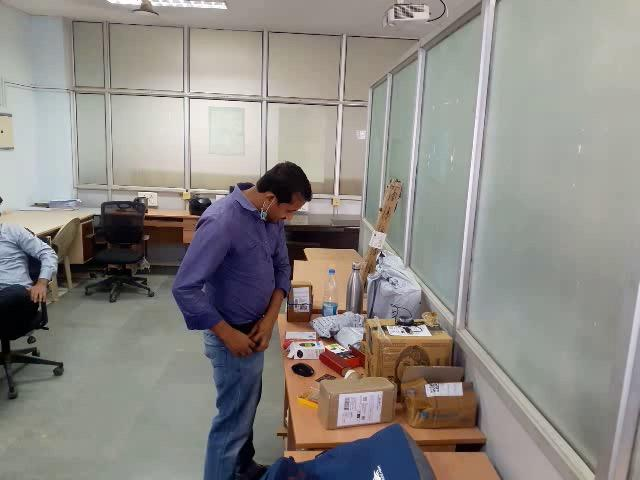shoplifting: (153, 269, 329, 393)
